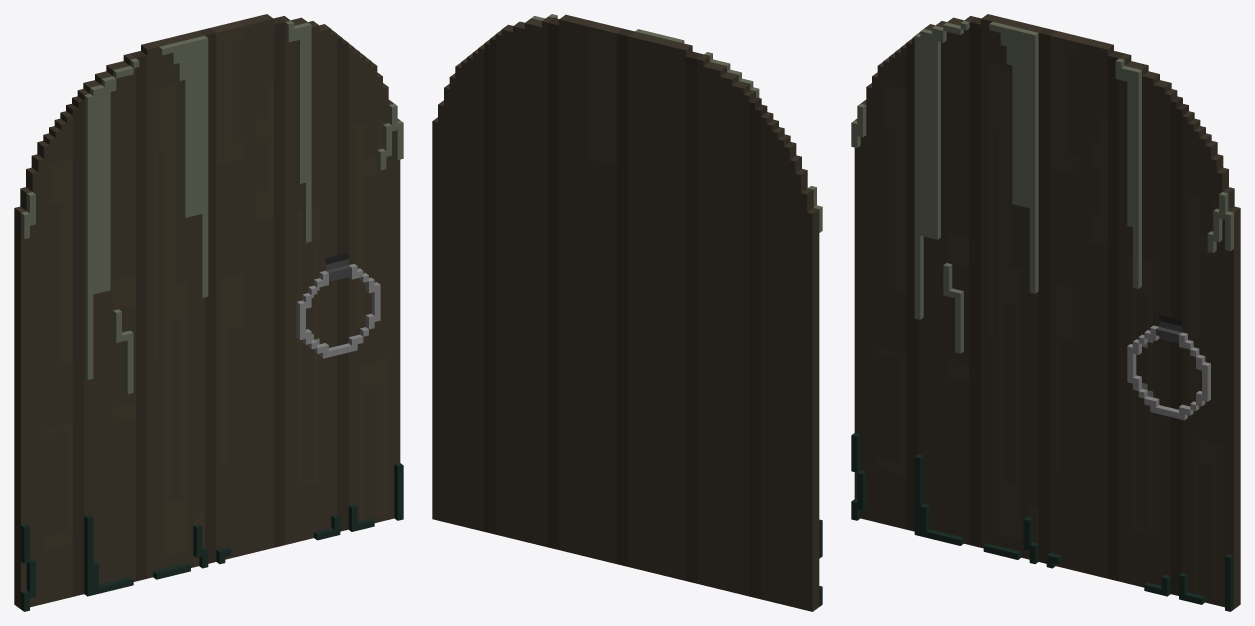
File: Menu-3.obj
The picture shows the model from 3 angles, left to right: view 1: azimuth 30°, elevation 25°; view 2: azimuth 150°, elevation 25°; view 3: azimuth 330°, elevation 25°; orthographic projection.
Size of the model in its own units: 6.6 by 8.8 by 0.3.
1 material, 1 textured.
